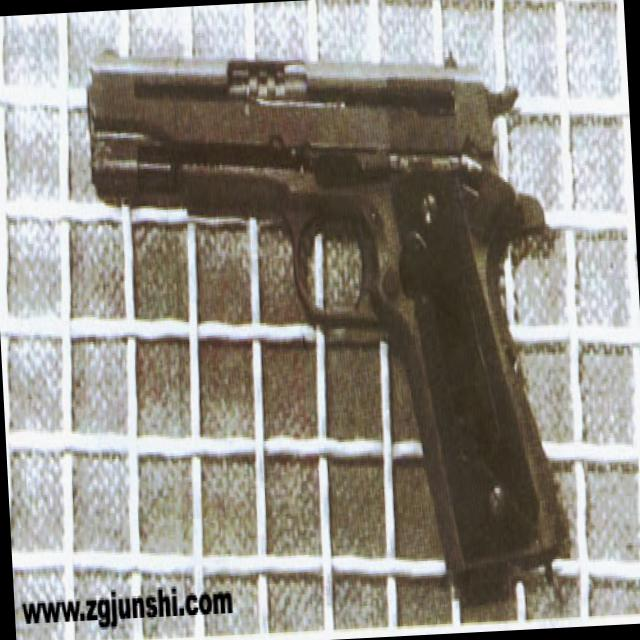handgun: (79, 22, 570, 602)
